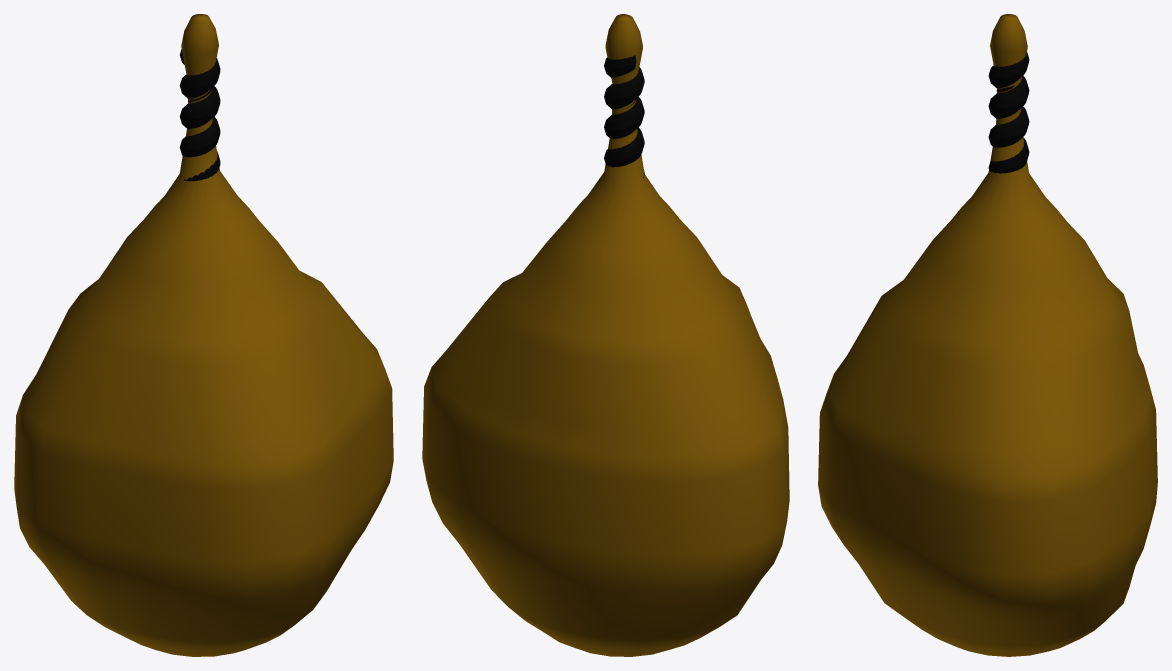
Rendered from SantaSack.fbx.
The picture shows the model from 3 angles, left to right: view 1: azimuth 30°, elevation 25°; view 2: azimuth 150°, elevation 25°; view 3: azimuth 270°, elevation 25°; orthographic projection.
Visible parts, largest first — view 1: pSphere1, pHelix1; view 2: pSphere1, pHelix1; view 3: pSphere1, pHelix1.
Boxes of the visible parts, x1,y1,x2,y2 form: pSphere1: [14, 14, 393, 656]; pHelix1: [179, 49, 220, 181]; pSphere1: [422, 14, 789, 656]; pHelix1: [604, 55, 644, 178]; pSphere1: [818, 14, 1157, 656]; pHelix1: [988, 52, 1029, 173].
Size of the model in its own units: 12.43 by 21.49 by 10.57.
